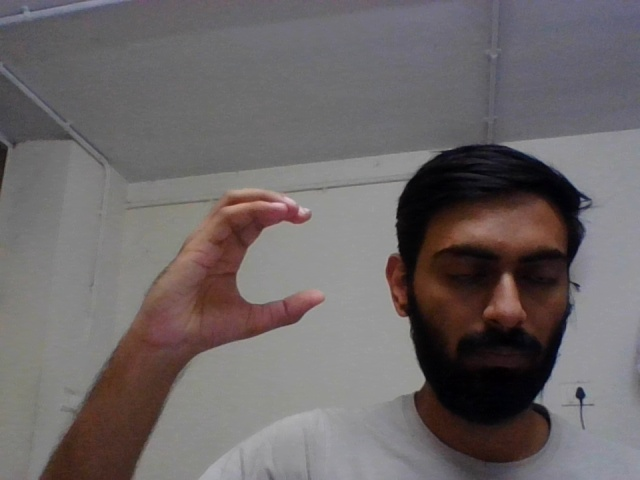C: (114, 179, 332, 372)
